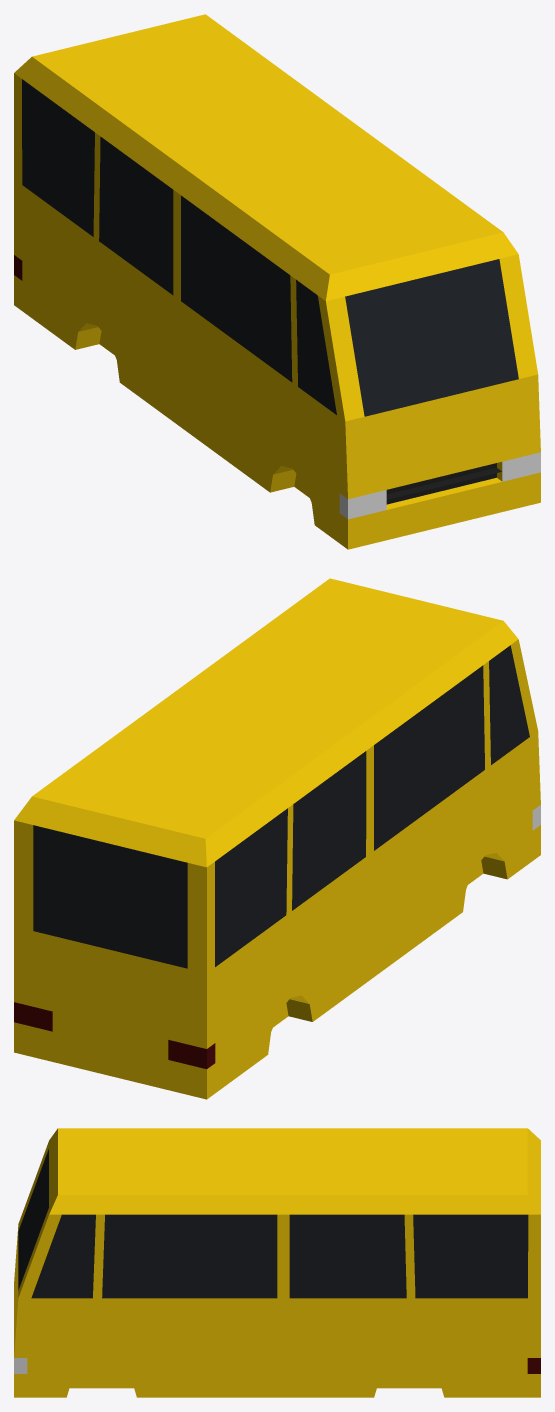
File: bus.glb
3 views of the same model, one above another, from view 1: azimuth 30°, elevation 25°; view 2: azimuth 150°, elevation 25°; view 3: azimuth 270°, elevation 25° (orthographic). The views are drawn at different scales.
Visible parts, largest first — view 1: Plane; view 2: Plane; view 3: Plane.
Part boxes in pixels (left/top/right/bottom): Plane: left=14, top=14, right=540, bottom=549; Plane: left=14, top=578, right=540, bottom=1099; Plane: left=14, top=1128, right=540, bottom=1397.
Size of the model in its own units: 2 by 2.5 by 6.
